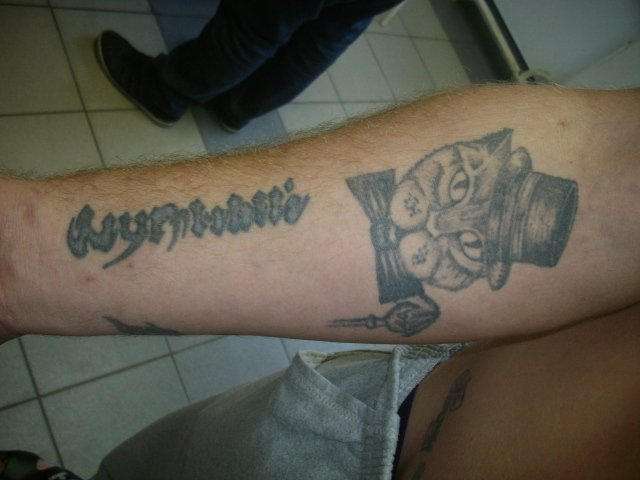tatu3_bukva: (60, 198, 312, 268), (415, 364, 478, 454)
tatu8_kot: (341, 127, 589, 338)
